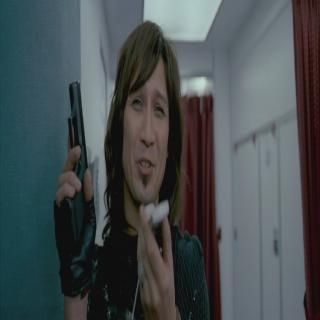gun: (58, 73, 93, 256)
